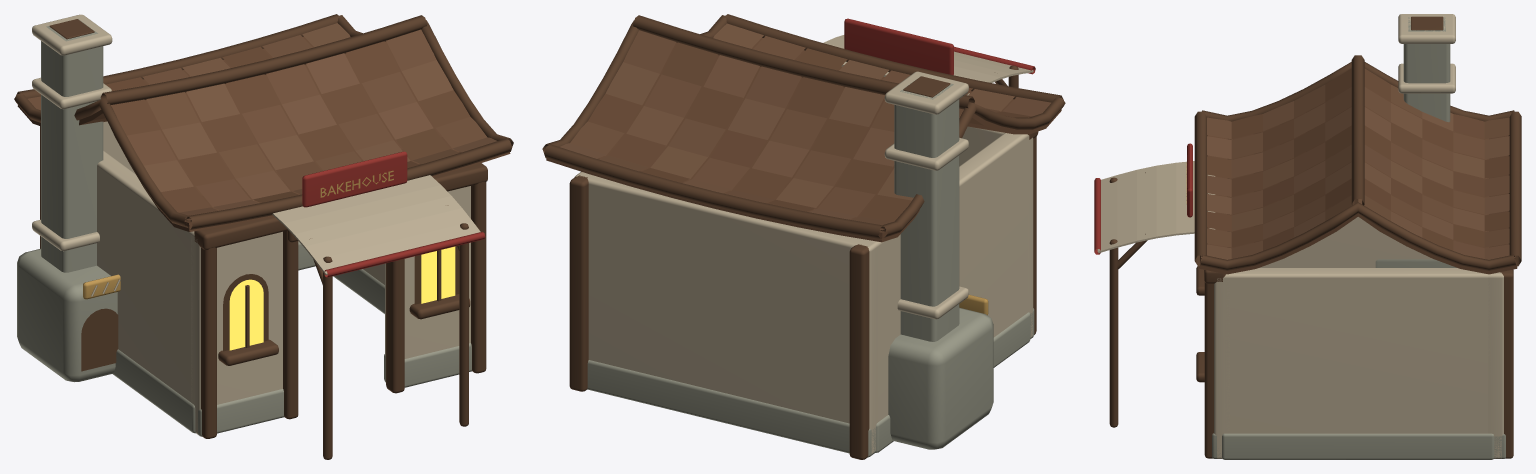
The model's file is kitchen.glb.
3 views of the same model, side by side, from view 1: azimuth 30°, elevation 25°; view 2: azimuth 150°, elevation 25°; view 3: azimuth 270°, elevation 25° (orthographic). The views are drawn at different scales.
Visible parts, largest first — view 1: kitchen-exterior; view 2: kitchen-exterior; view 3: kitchen-exterior.
Part boxes in pixels (left/top/right/bottom): kitchen-exterior: left=14, top=14, right=513, bottom=459; kitchen-exterior: left=542, top=14, right=1065, bottom=459; kitchen-exterior: left=1094, top=14, right=1521, bottom=459.
Size of the model in its own units: 3.75 by 3.31 by 4.22.
